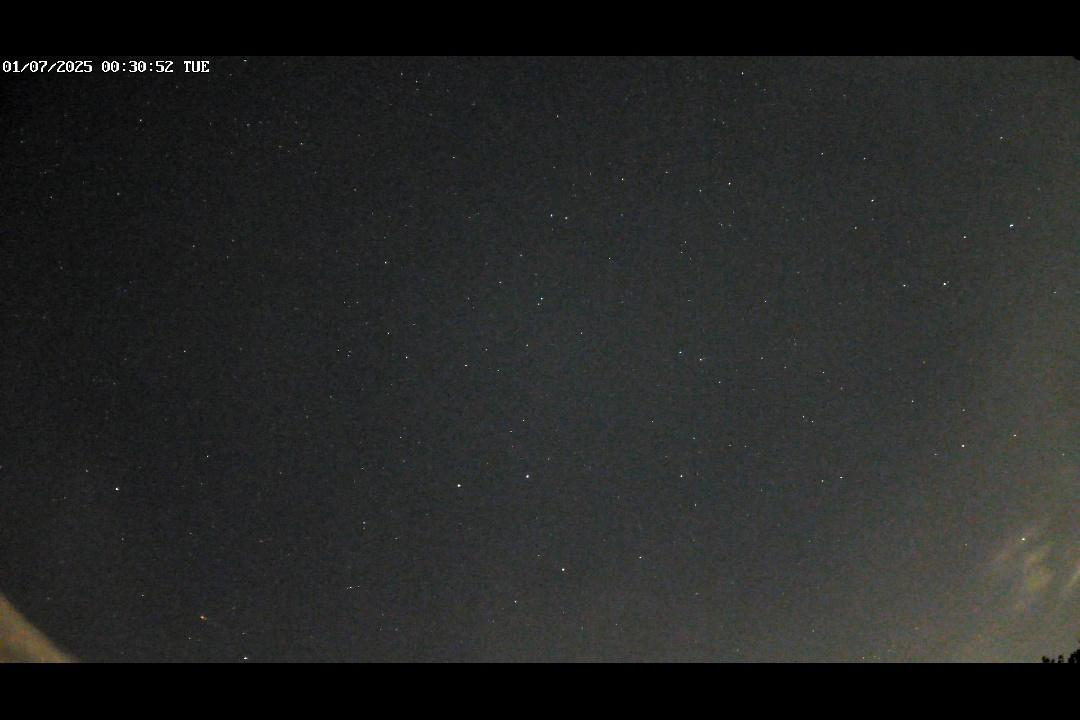Plane: (194, 612, 221, 626)
